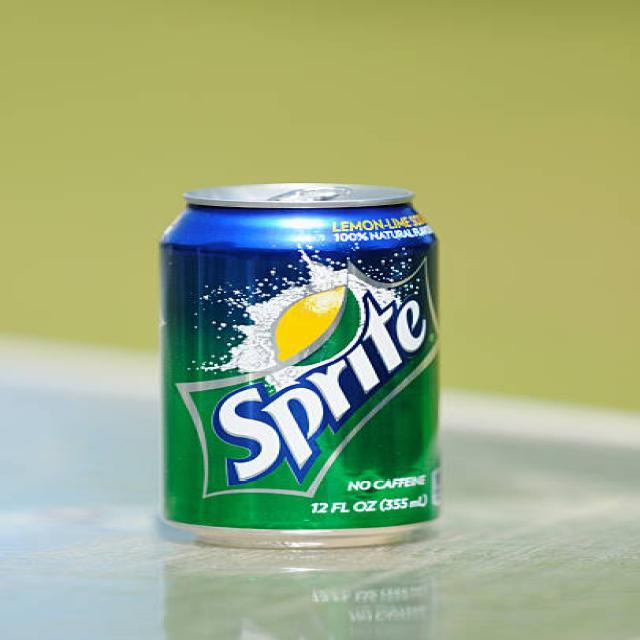sprite: (139, 179, 523, 589)
